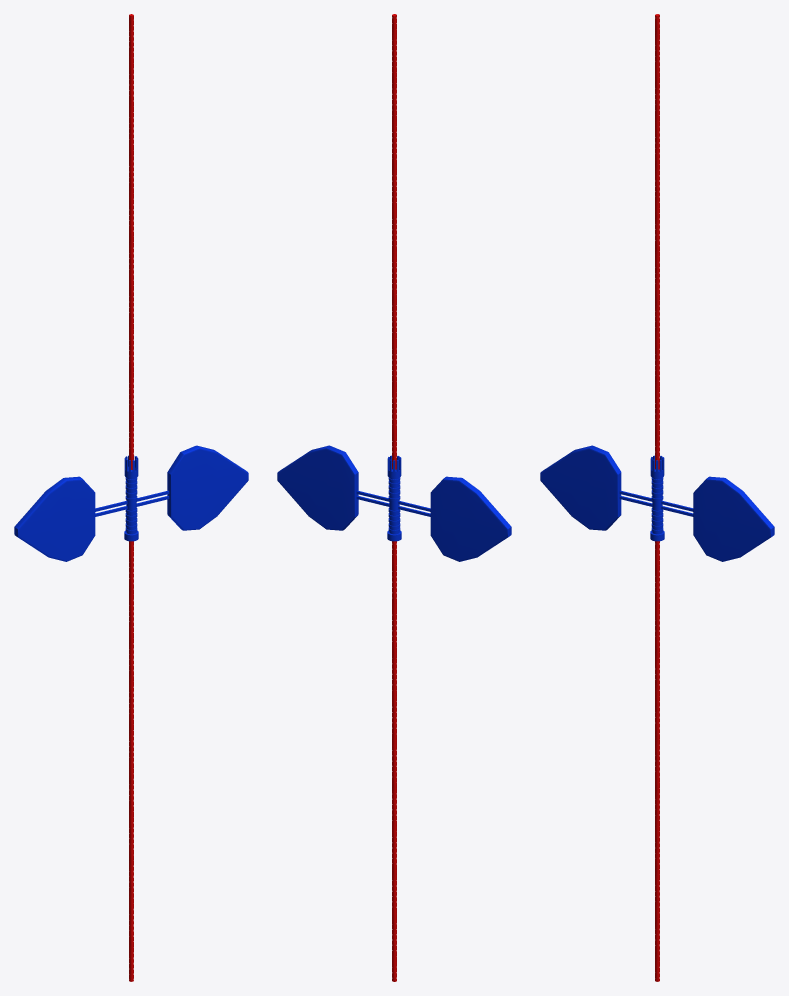
The model's file is P_TurbineSet.fbx.
3 renders of one model, left to right at view 1: azimuth 30°, elevation 25°; view 2: azimuth 150°, elevation 25°; view 3: azimuth 330°, elevation 25°, orthographic.
Visible parts, largest first — view 1: P_Turbine_blade, P_Turbine_post; view 2: P_Turbine_blade, P_Turbine_post; view 3: P_Turbine_blade, P_Turbine_post.
Boxes of the visible parts, x1,y1,x2,y2 form: P_Turbine_blade: (14,445,248,561); P_Turbine_post: (129,14,133,981); P_Turbine_blade: (277,445,511,561); P_Turbine_post: (392,14,396,981); P_Turbine_blade: (540,445,774,561); P_Turbine_post: (655,14,659,981).
Size of the model in its own units: 299 by 1191 by 16.11.
